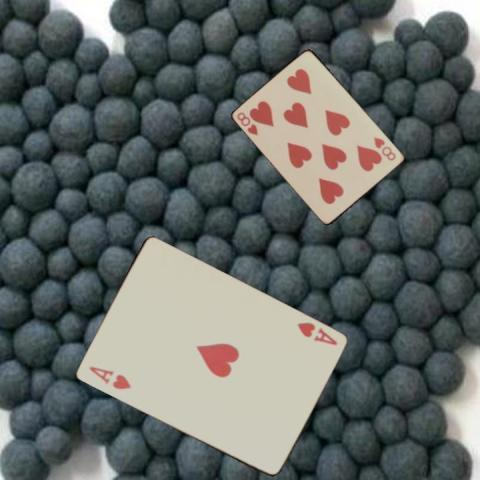8h: (371, 134, 397, 162), (234, 109, 259, 137)
Ah: (85, 363, 132, 391), (294, 318, 339, 346)
